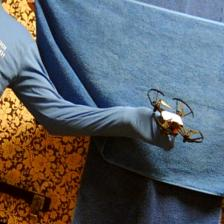drone: (147, 87, 204, 149)
